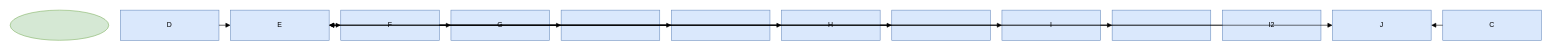
Image size: 1552x50. Some labels were removed from this diagram. The box of each missing label's shape, as (x1, y1, x2, y2) in pixels:
Bắt đầu: (10, 10, 109, 40)
G1: (561, 10, 660, 40)
G2: (671, 10, 770, 40)
H1: (891, 10, 990, 40)
I1: (1112, 10, 1211, 40)
